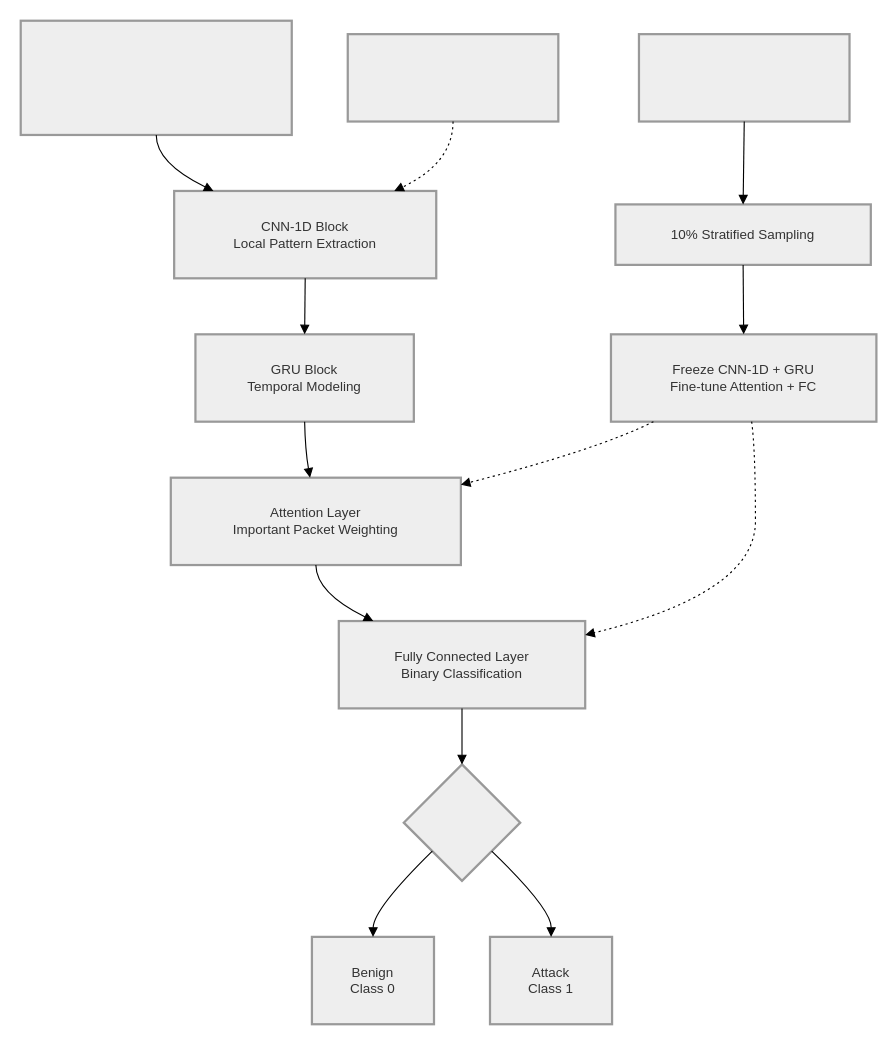
Some shapes in this 896 by 1044 pixel diagram are drawn without their labels. Each missing label, with the centre of its shape:
"Input Sequence 10-Packet Traffic Window X ∈ R^(T × d)" goes at point (155, 77).
"Output" goes at point (461, 822).
"Source Training Air Quality Sensor" goes at point (452, 77).
"Target Adaptation IP Camera" goes at point (743, 77).
